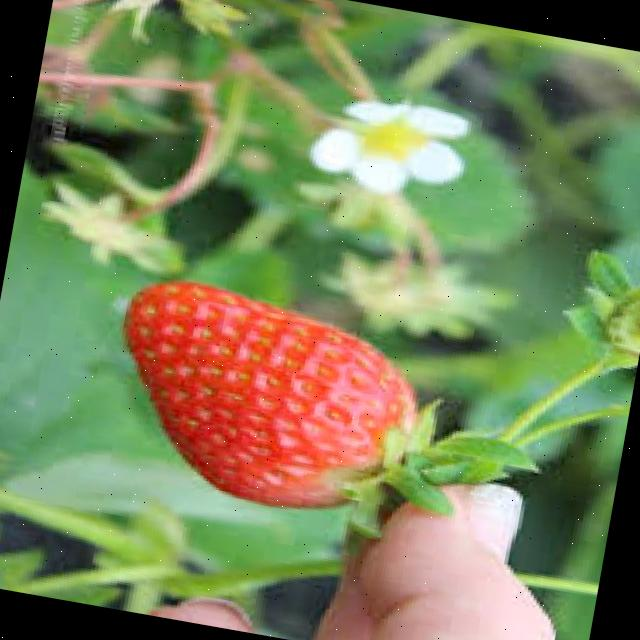strawberry: (96, 271, 432, 529)
